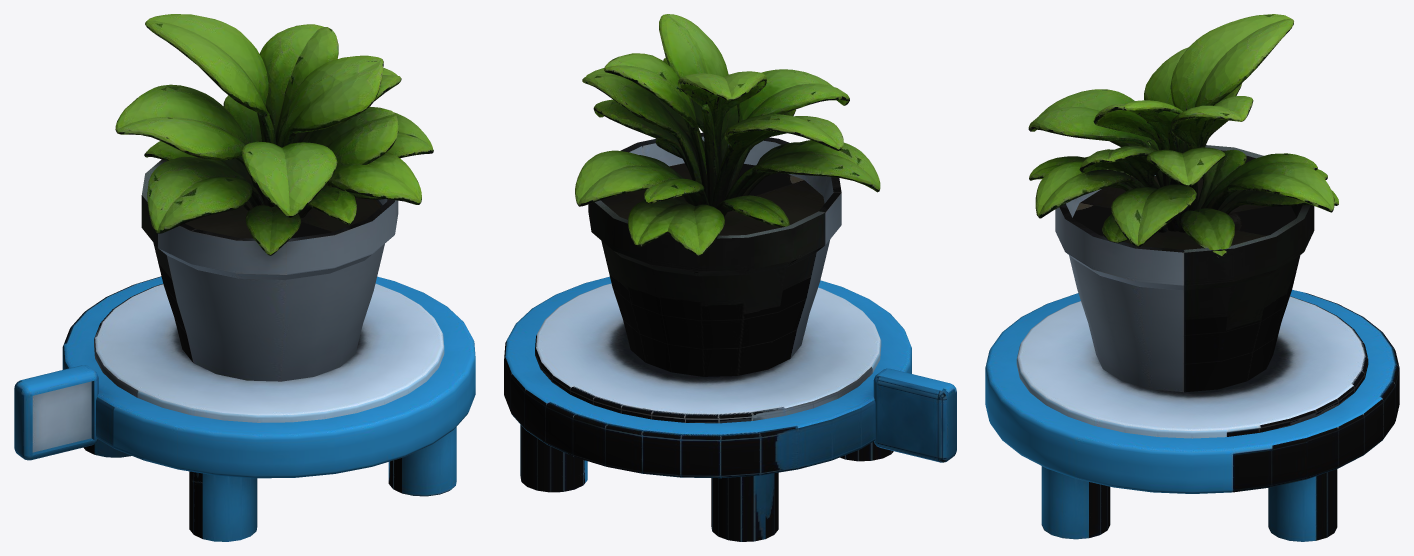
The model's file is maceta.glb.
3 views of the same model, side by side, from view 1: azimuth 30°, elevation 25°; view 2: azimuth 150°, elevation 25°; view 3: azimuth 270°, elevation 25° (orthographic).
Visible parts, largest first — view 1: Cylinder005; view 2: Cylinder005; view 3: Cylinder005.
Part boxes in pixels (<box>): Cylinder005: <box>14,14,475,541</box>; Cylinder005: <box>504,14,956,541</box>; Cylinder005: <box>985,14,1399,541</box>.
Size of the model in its own units: 0.9691 by 0.9238 by 0.8106.
2 materials, 2 textured.
